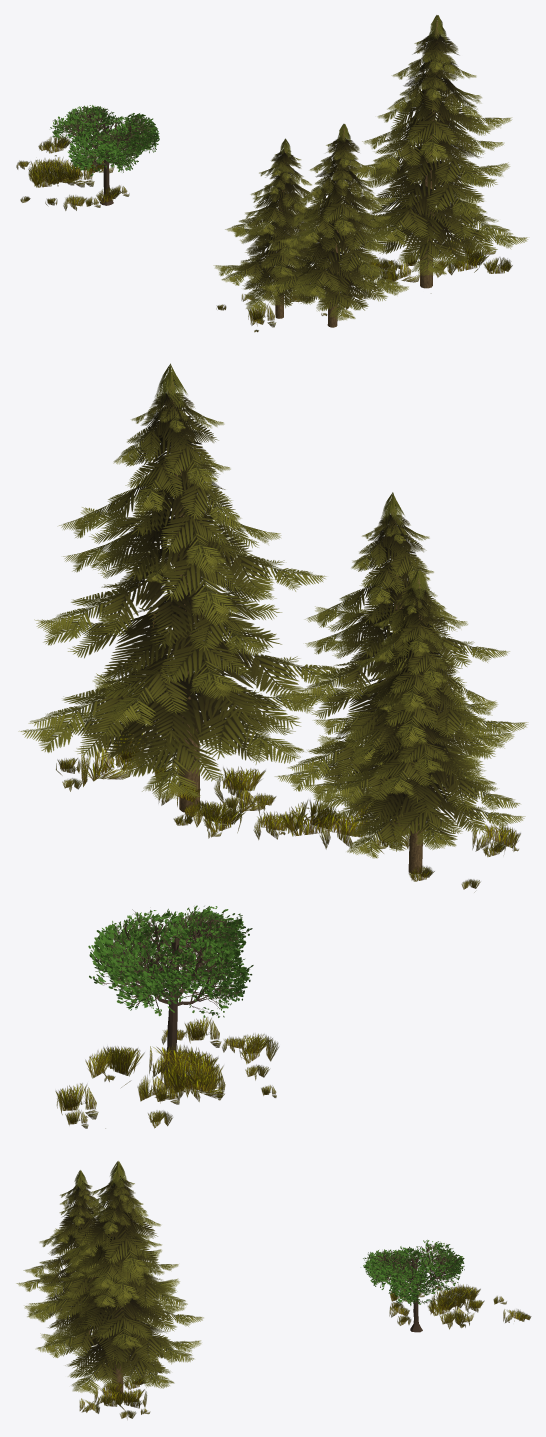
3 renders of one model, top to bottom at view 1: azimuth 30°, elevation 25°; view 2: azimuth 150°, elevation 25°; view 3: azimuth 270°, elevation 25°, orthographic. The views are drawn at different scales.
Parts seen in each view (by area): view 1: Low Poly Stylized 2D Grass.164; view 2: Low Poly Stylized 2D Grass.164; view 3: Low Poly Stylized 2D Grass.164.
Boxes of the visible parts, x1,y1,x2,y2 form: Low Poly Stylized 2D Grass.164: [16, 15, 527, 332]; Low Poly Stylized 2D Grass.164: [18, 363, 528, 1128]; Low Poly Stylized 2D Grass.164: [16, 1161, 531, 1419].
Bounding box in the file's own units: 17.98 × 14.41 × 27.85.
Materials: 5 (4 with a texture image).
